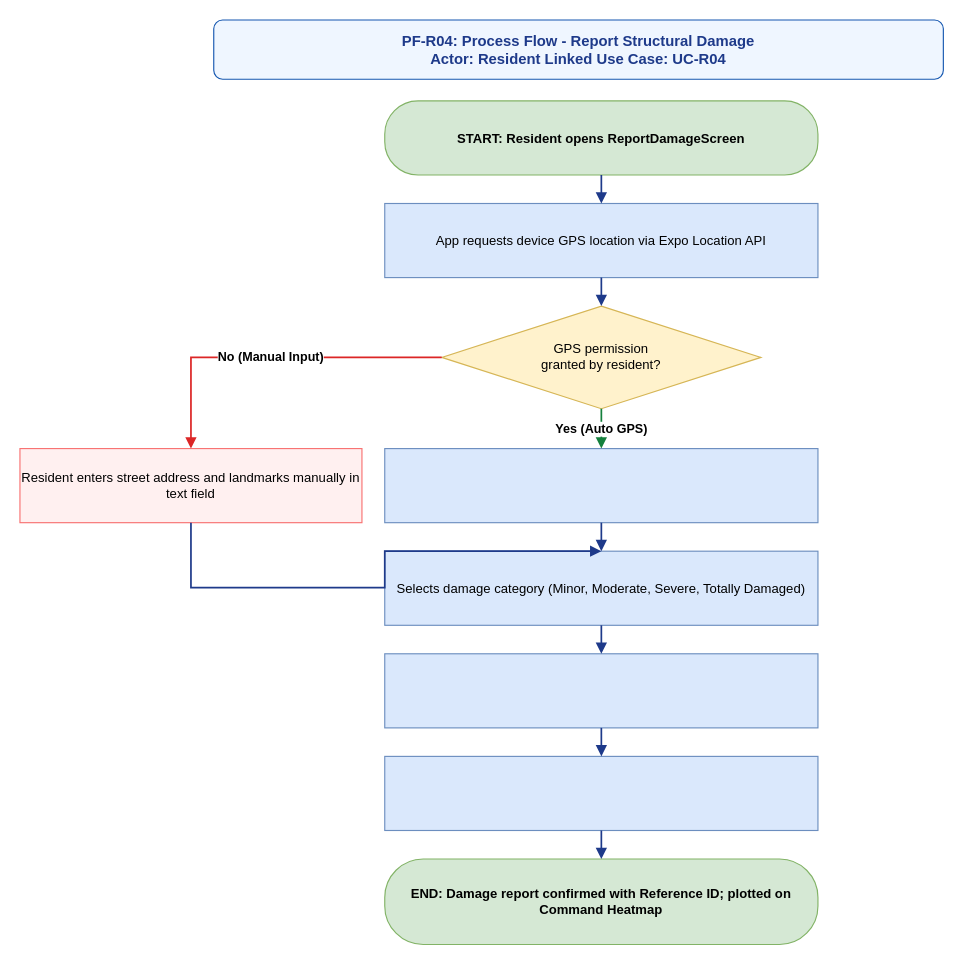
This 963x964 diagram has some shape labels left out. Each missing label, with the centre of its shape:
App captures precise latitude and longitude coordinates automatically: (x=601, y=485)
Captures damage photo using camera; photo uploaded to Cloudinary CDN: (x=601, y=690)
Submits report via POST /api/damage-reports; recalculates household score: (x=601, y=792)
